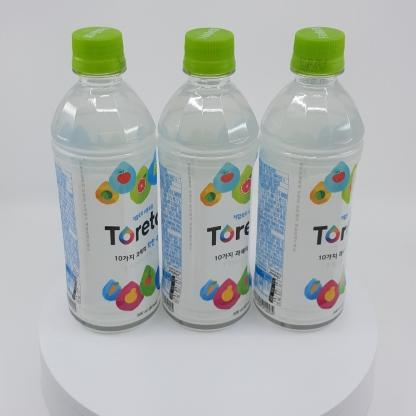-----500ML: (252, 27, 365, 332), (51, 27, 161, 333), (157, 27, 259, 332)
